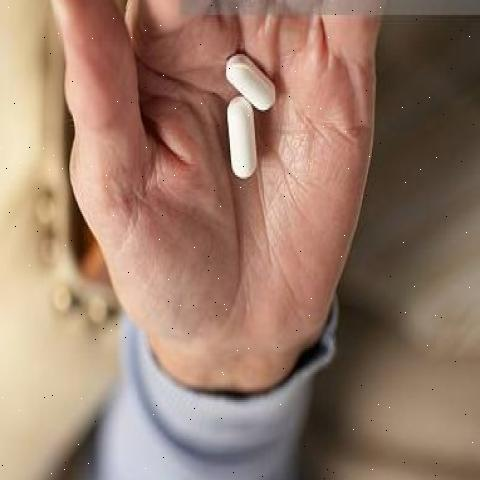Pill: (221, 92, 272, 194), (225, 45, 292, 119)
